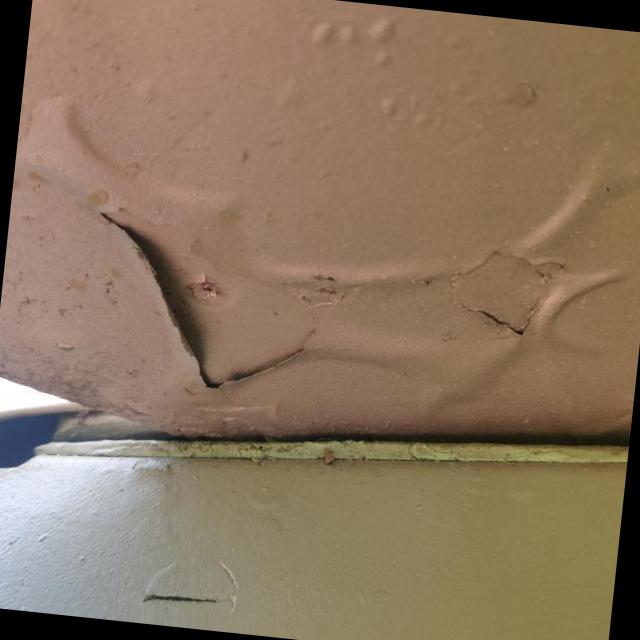Paint-off: (104, 208, 314, 386), (452, 251, 550, 334)
